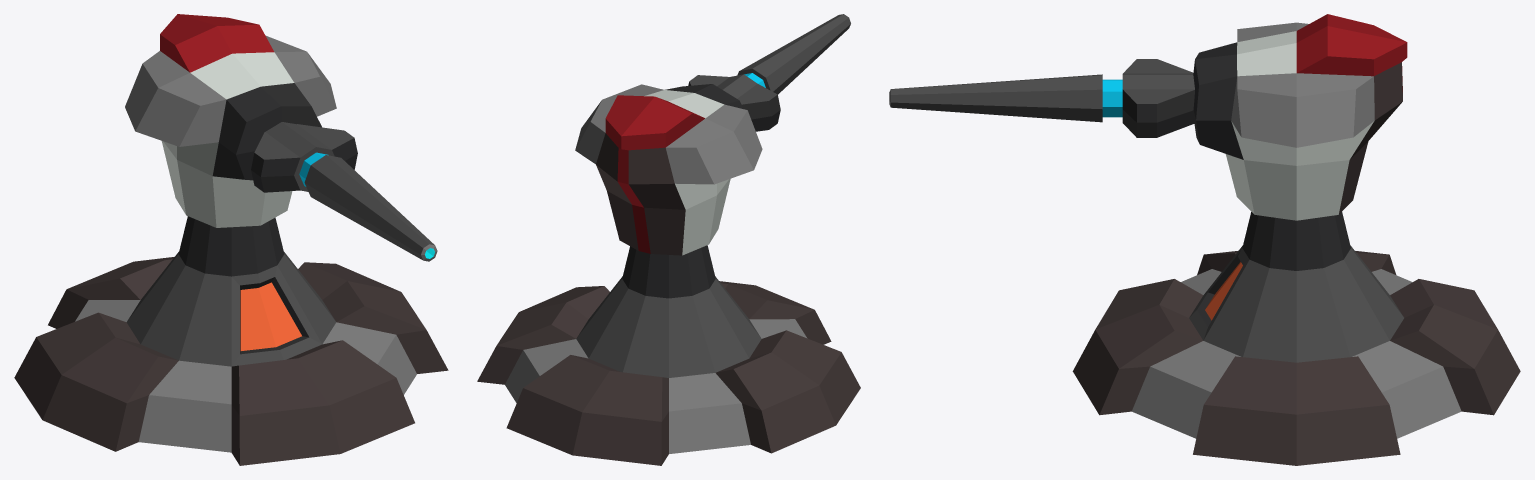
3 renders of one model, left to right at view 1: azimuth 30°, elevation 25°; view 2: azimuth 150°, elevation 25°; view 3: azimuth 270°, elevation 25°, orthographic. The views are drawn at different scales.
Parts seen in each view (by area): view 1: TurretBase_01, Turret_01; view 2: TurretBase_01, Turret_01; view 3: TurretBase_01, Turret_01.
Part boxes in pixels (bbox=[...]): TurretBase_01: bbox=[14, 216, 448, 465]; Turret_01: bbox=[125, 14, 437, 261]; TurretBase_01: bbox=[477, 245, 860, 465]; Turret_01: bbox=[575, 14, 850, 255]; TurretBase_01: bbox=[1072, 212, 1520, 465]; Turret_01: bbox=[889, 14, 1407, 220].
Size of what is drawn, in the model's own units: 2.78 by 2.37 by 3.92.
Materials: 3 (3 with a texture image).
